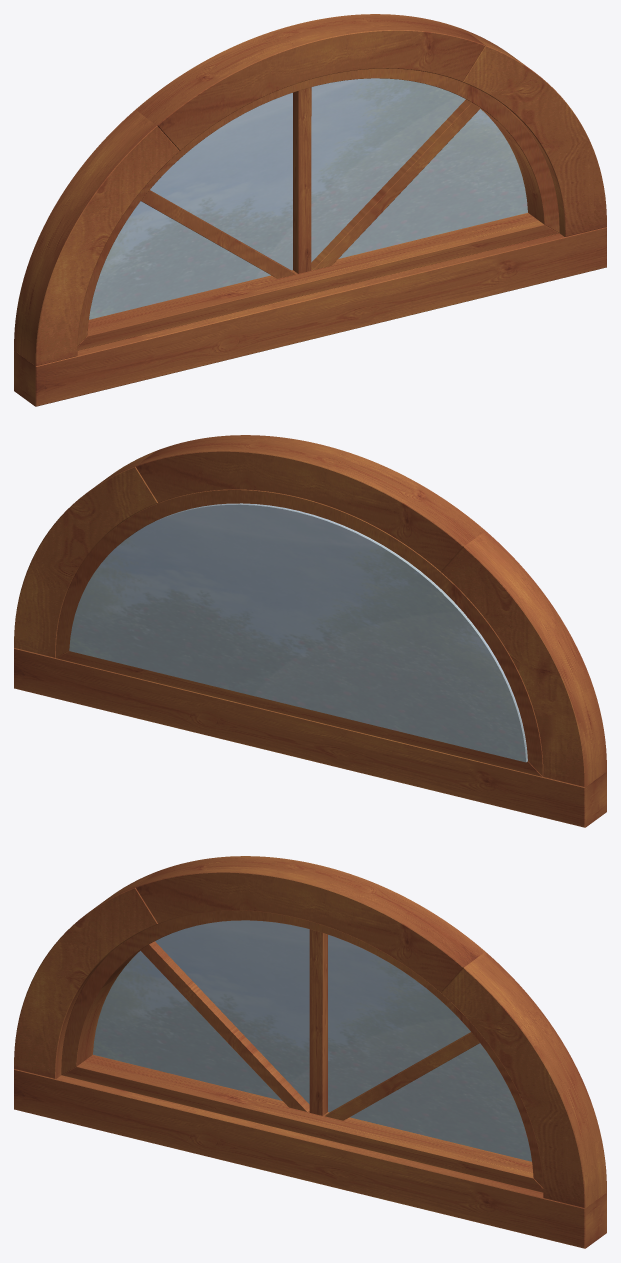
3 renders of one model, top to bottom at view 1: azimuth 30°, elevation 25°; view 2: azimuth 150°, elevation 25°; view 3: azimuth 330°, elevation 25°, orthographic.
Parts seen in each view (by area): view 1: glass, trim_bottom, trim_top, trim_left, window_bottom, trim_right, window, muttin003, muttin002, muttin001; view 2: glass, trim_bottom, trim_top, trim_left, window, trim_right, window_bottom; view 3: glass, trim_bottom, trim_top, trim_right, window_bottom, trim_left, window, muttin001, muttin002, muttin003.
Boxes of the visible parts, x1,y1,x2,y2 form: glass: [89, 78, 527, 319]; trim_bottom: [14, 227, 606, 406]; trim_top: [135, 14, 485, 150]; trim_left: [14, 110, 179, 366]; window_bottom: [77, 213, 558, 350]; trim_right: [463, 30, 606, 236]; window: [77, 68, 559, 345]; muttin003: [311, 99, 480, 270]; muttin002: [293, 87, 311, 273]; muttin001: [141, 190, 295, 278]; glass: [69, 503, 527, 762]; trim_bottom: [14, 648, 606, 827]; trim_top: [135, 435, 485, 571]; trim_left: [441, 531, 606, 787]; window: [56, 489, 543, 776]; trim_right: [14, 451, 157, 657]; window_bottom: [56, 651, 542, 776]; glass: [93, 920, 531, 1161]; trim_bottom: [14, 1069, 606, 1248]; trim_top: [135, 856, 485, 992]; trim_right: [441, 952, 606, 1208]; window_bottom: [62, 1055, 543, 1192]; trim_left: [14, 872, 157, 1078]; window: [61, 910, 543, 1187]; muttin001: [140, 941, 309, 1112]; muttin002: [309, 929, 327, 1115]; muttin003: [325, 1032, 479, 1120].
Size of the model in its own units: 35.95 by 17.9 by 2.6.
5 materials, 5 textured.
